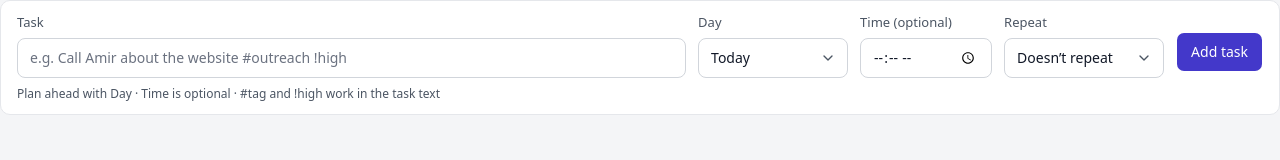
Test: QuickAddBar › keeps the text and shows the message when saving fails
Type "Prepare demo" into the field labelled "Task" at (352,58), box [17,38,686,78]
Then press Enter
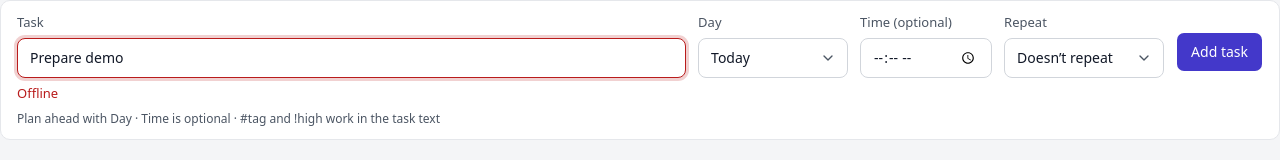
expect the message reads "Offline": met, box [17,84,58,102]
